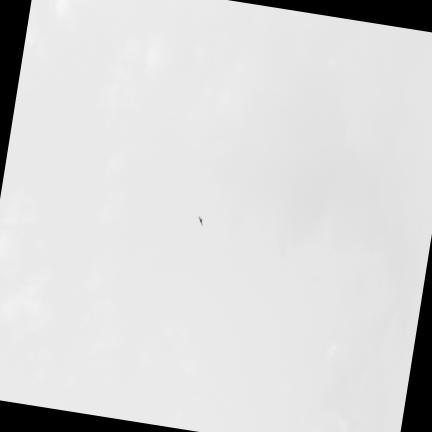Shahed: (198, 215, 202, 225)
